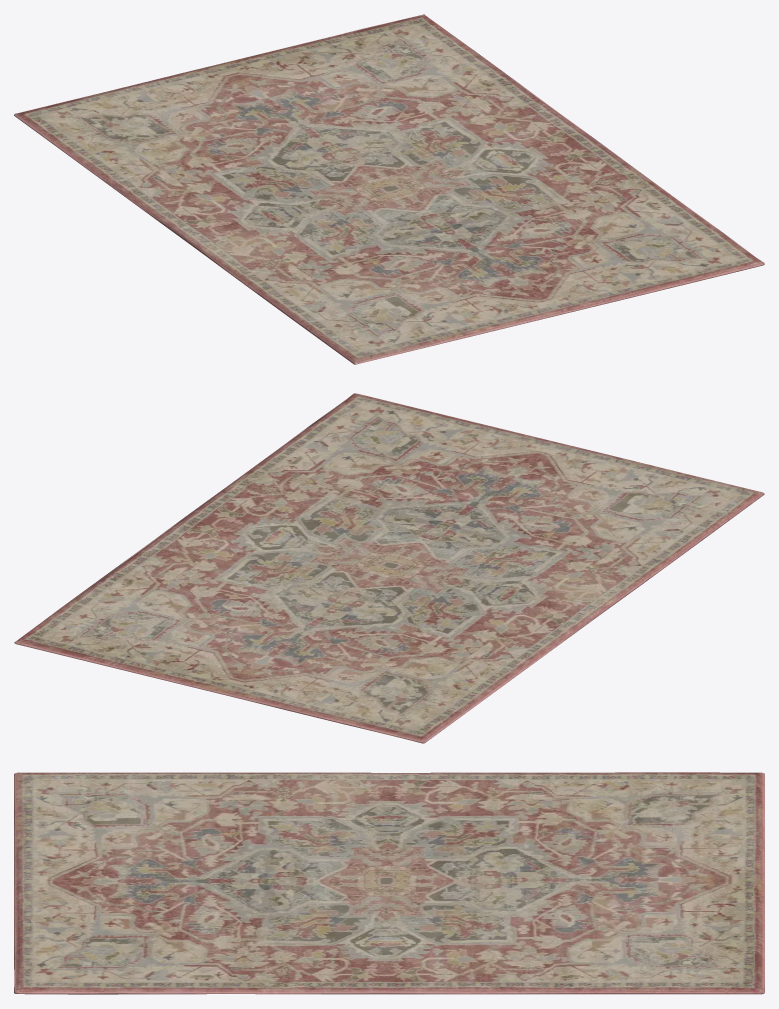
3 renders of one model, top to bottom at view 1: azimuth 30°, elevation 25°; view 2: azimuth 150°, elevation 25°; view 3: azimuth 270°, elevation 25°, orthographic. The views are drawn at different scales.
Parts seen in each view (by area): view 1: ASY_ART_20595698_S01_NV01.001; view 2: ASY_ART_20595698_S01_NV01.001; view 3: ASY_ART_20595698_S01_NV01.001.
Part boxes in pixels (x1,y1,x2,y2): ASY_ART_20595698_S01_NV01.001: (14, 14, 764, 364); ASY_ART_20595698_S01_NV01.001: (14, 393, 764, 743); ASY_ART_20595698_S01_NV01.001: (14, 772, 764, 994).
Size of the model in its own units: 1.6 by 0.0112 by 2.3.
1 material, 1 textured.
